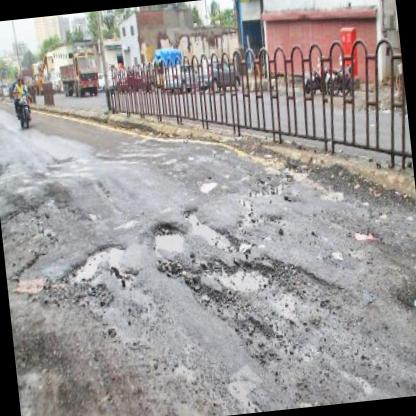pothole: (182, 245, 344, 326), (60, 240, 131, 287), (181, 200, 235, 253), (148, 218, 188, 258), (249, 178, 290, 200), (12, 271, 48, 294), (198, 175, 219, 195)
